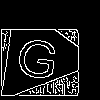G: (13, 29, 62, 80)
